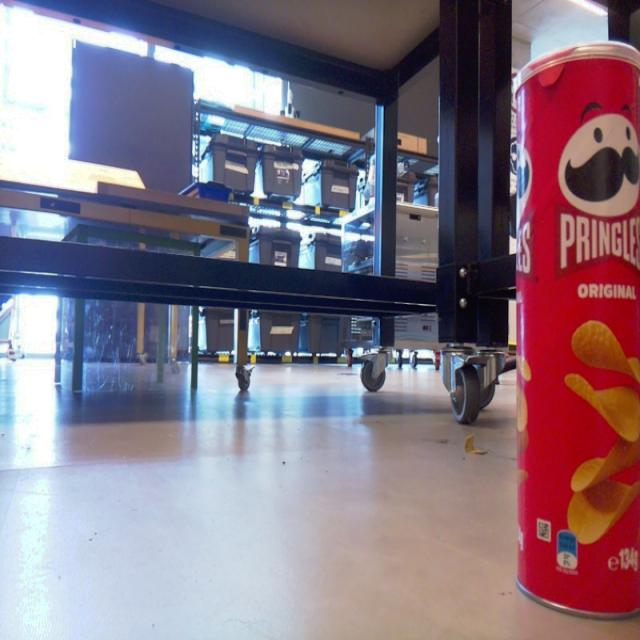redpringles: (498, 43, 640, 626)
